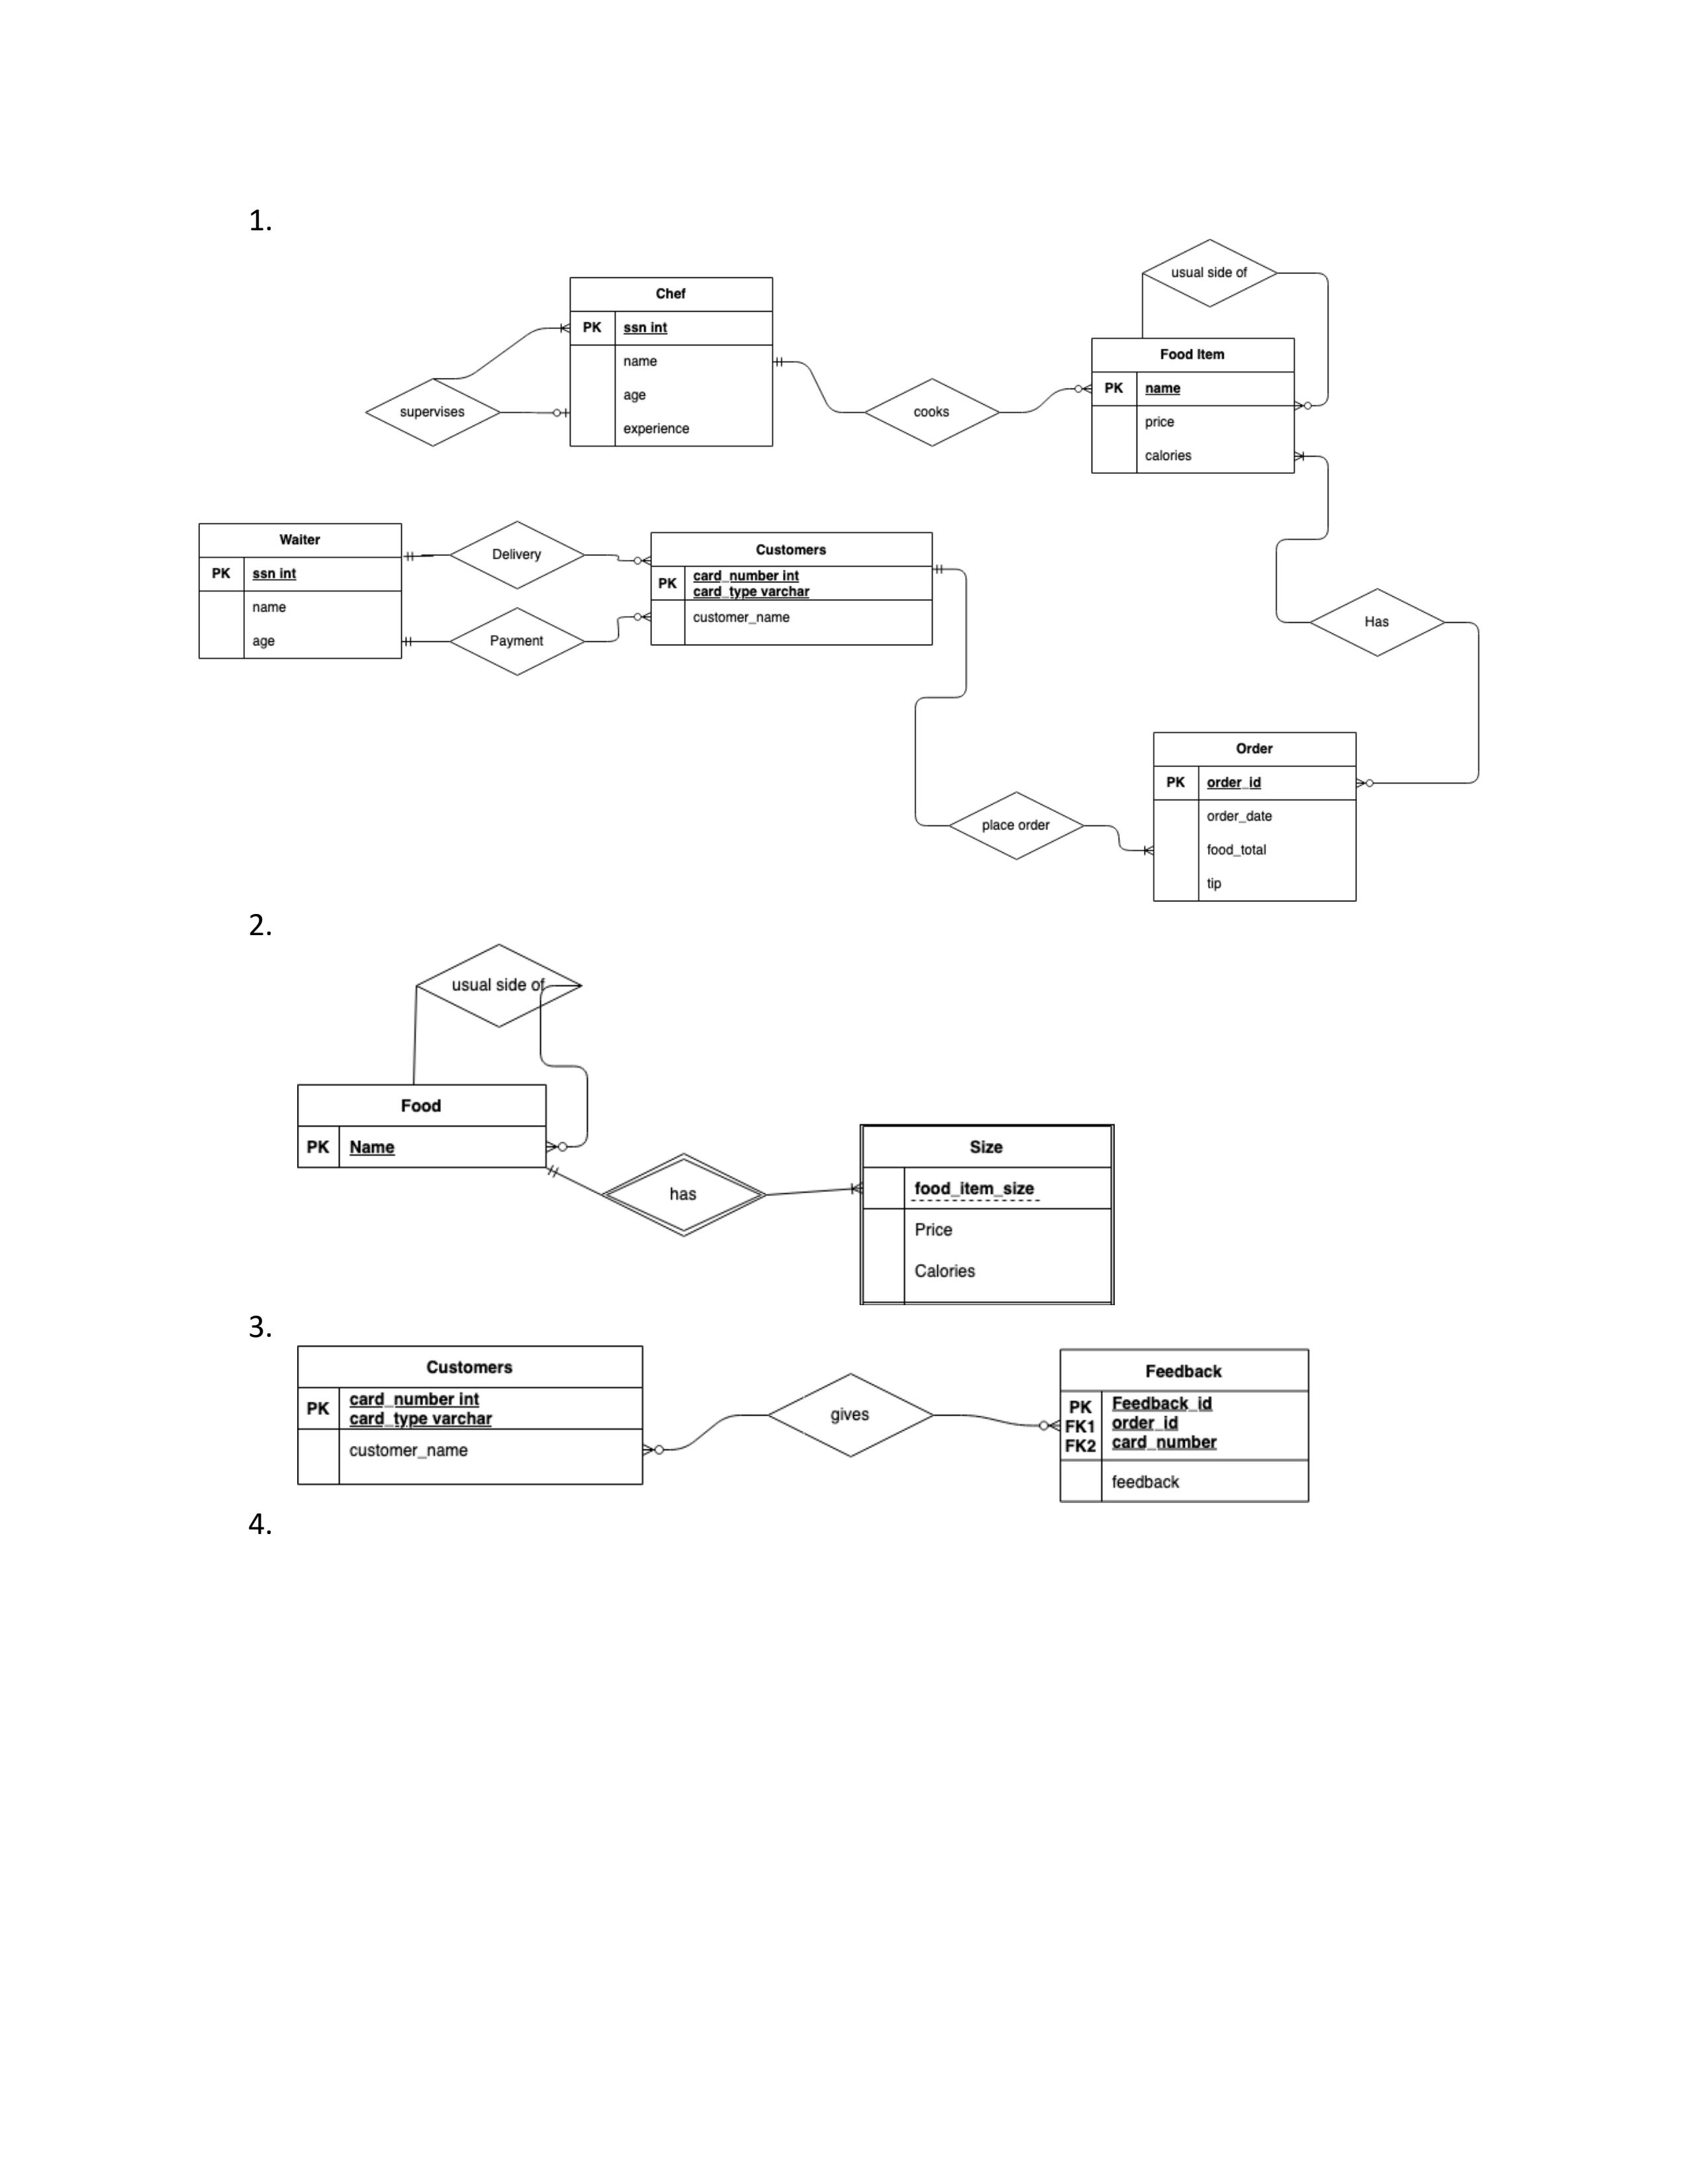Entity: (294, 1340, 647, 1489), (856, 1122, 1117, 1308), (1057, 1345, 1310, 1507), (567, 278, 777, 454), (1149, 729, 1360, 901), (651, 528, 933, 652), (195, 519, 402, 663), (1092, 340, 1293, 475), (293, 1080, 550, 1175)
Relationship: (768, 1372, 933, 1457), (410, 943, 582, 1025), (601, 1152, 770, 1234), (363, 376, 504, 447), (1307, 589, 1447, 658), (952, 789, 1085, 862), (1144, 238, 1273, 312), (871, 376, 1000, 447), (454, 519, 587, 585), (452, 612, 587, 675)
